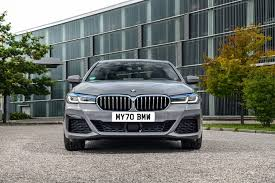number_plate: (109, 111, 159, 122)
